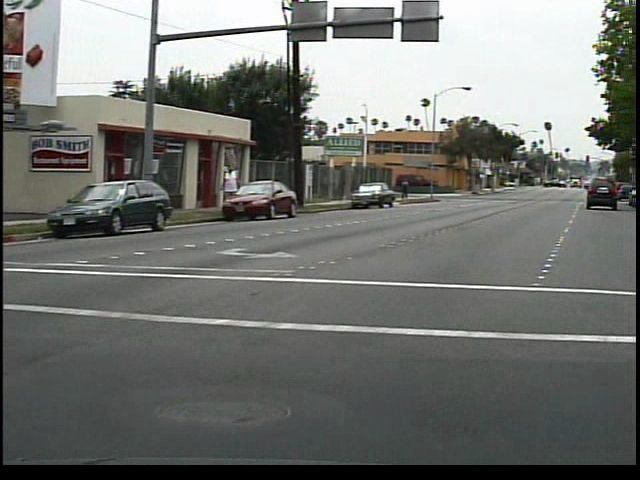person: (222, 159, 248, 216), (405, 176, 419, 202)
